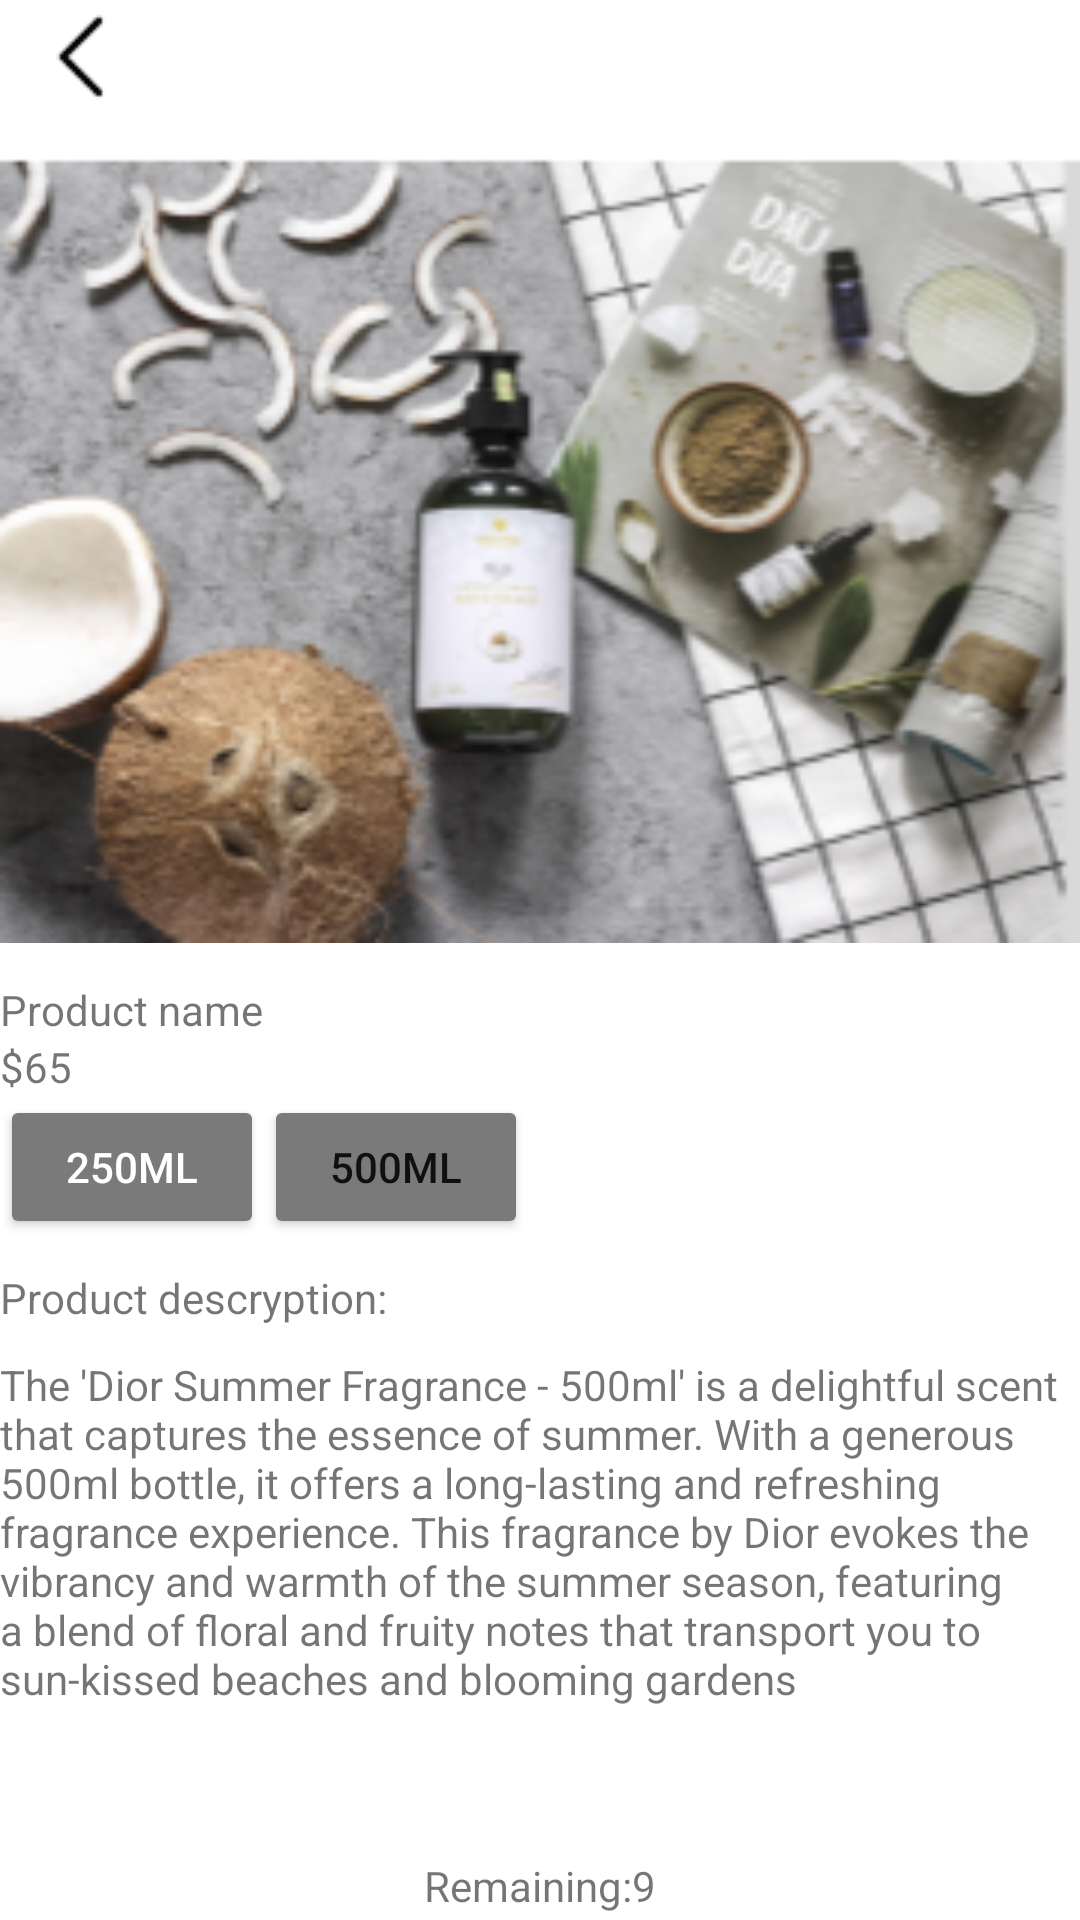

Where icons sit on this 1080px x 1920px app screen, as (x1, y1, x2, y2):
back: (57, 15, 103, 97)
